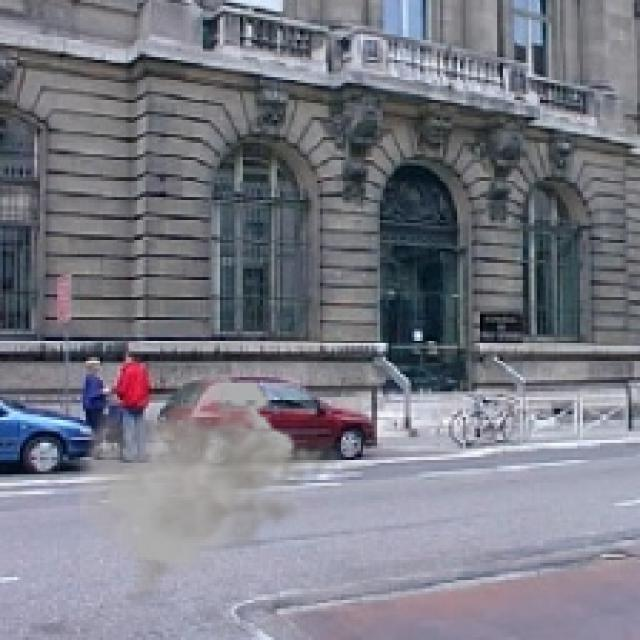smoke: (69, 368, 348, 603)
